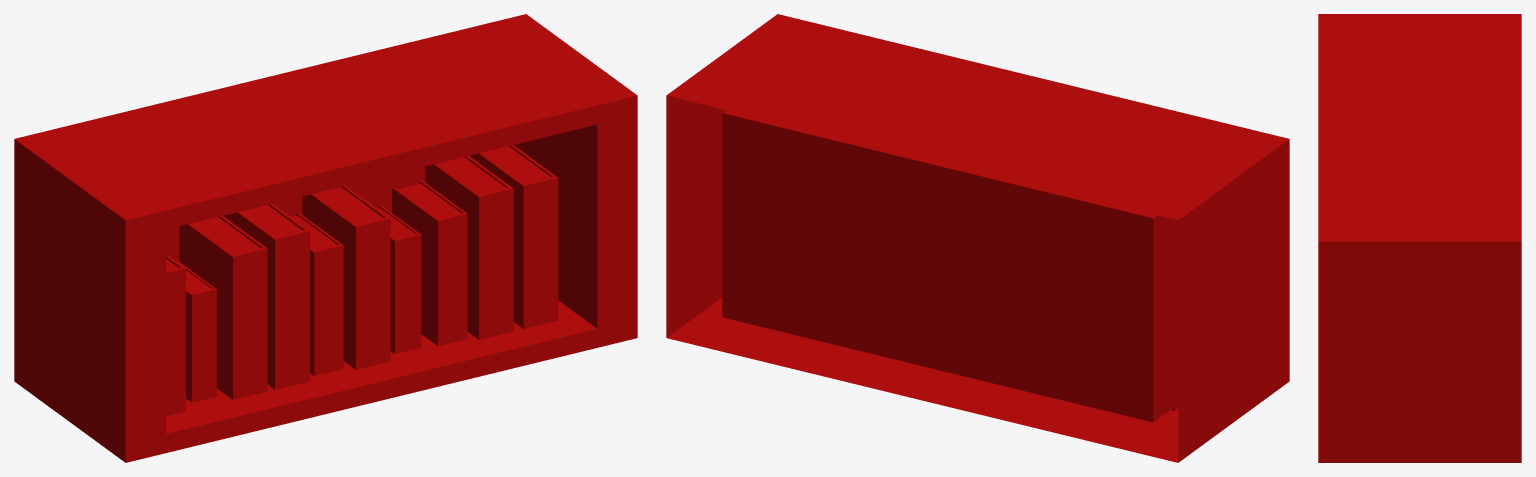
The model's file is Shelve_Books.fbx.
3 views of the same model, side by side, from view 1: azimuth 30°, elevation 25°; view 2: azimuth 150°, elevation 25°; view 3: azimuth 270°, elevation 25° (orthographic). The views are drawn at different scales.
Visible parts, largest first — view 1: Book_shelve; view 2: Book_shelve; view 3: Book_shelve.
Part boxes in pixels (x1,y1,x2,y2): Book_shelve: (14,14,637,462); Book_shelve: (666,14,1289,462); Book_shelve: (1318,14,1521,462).
Bounding box in the file's own units: 94.81 × 42.93 × 35.73.
